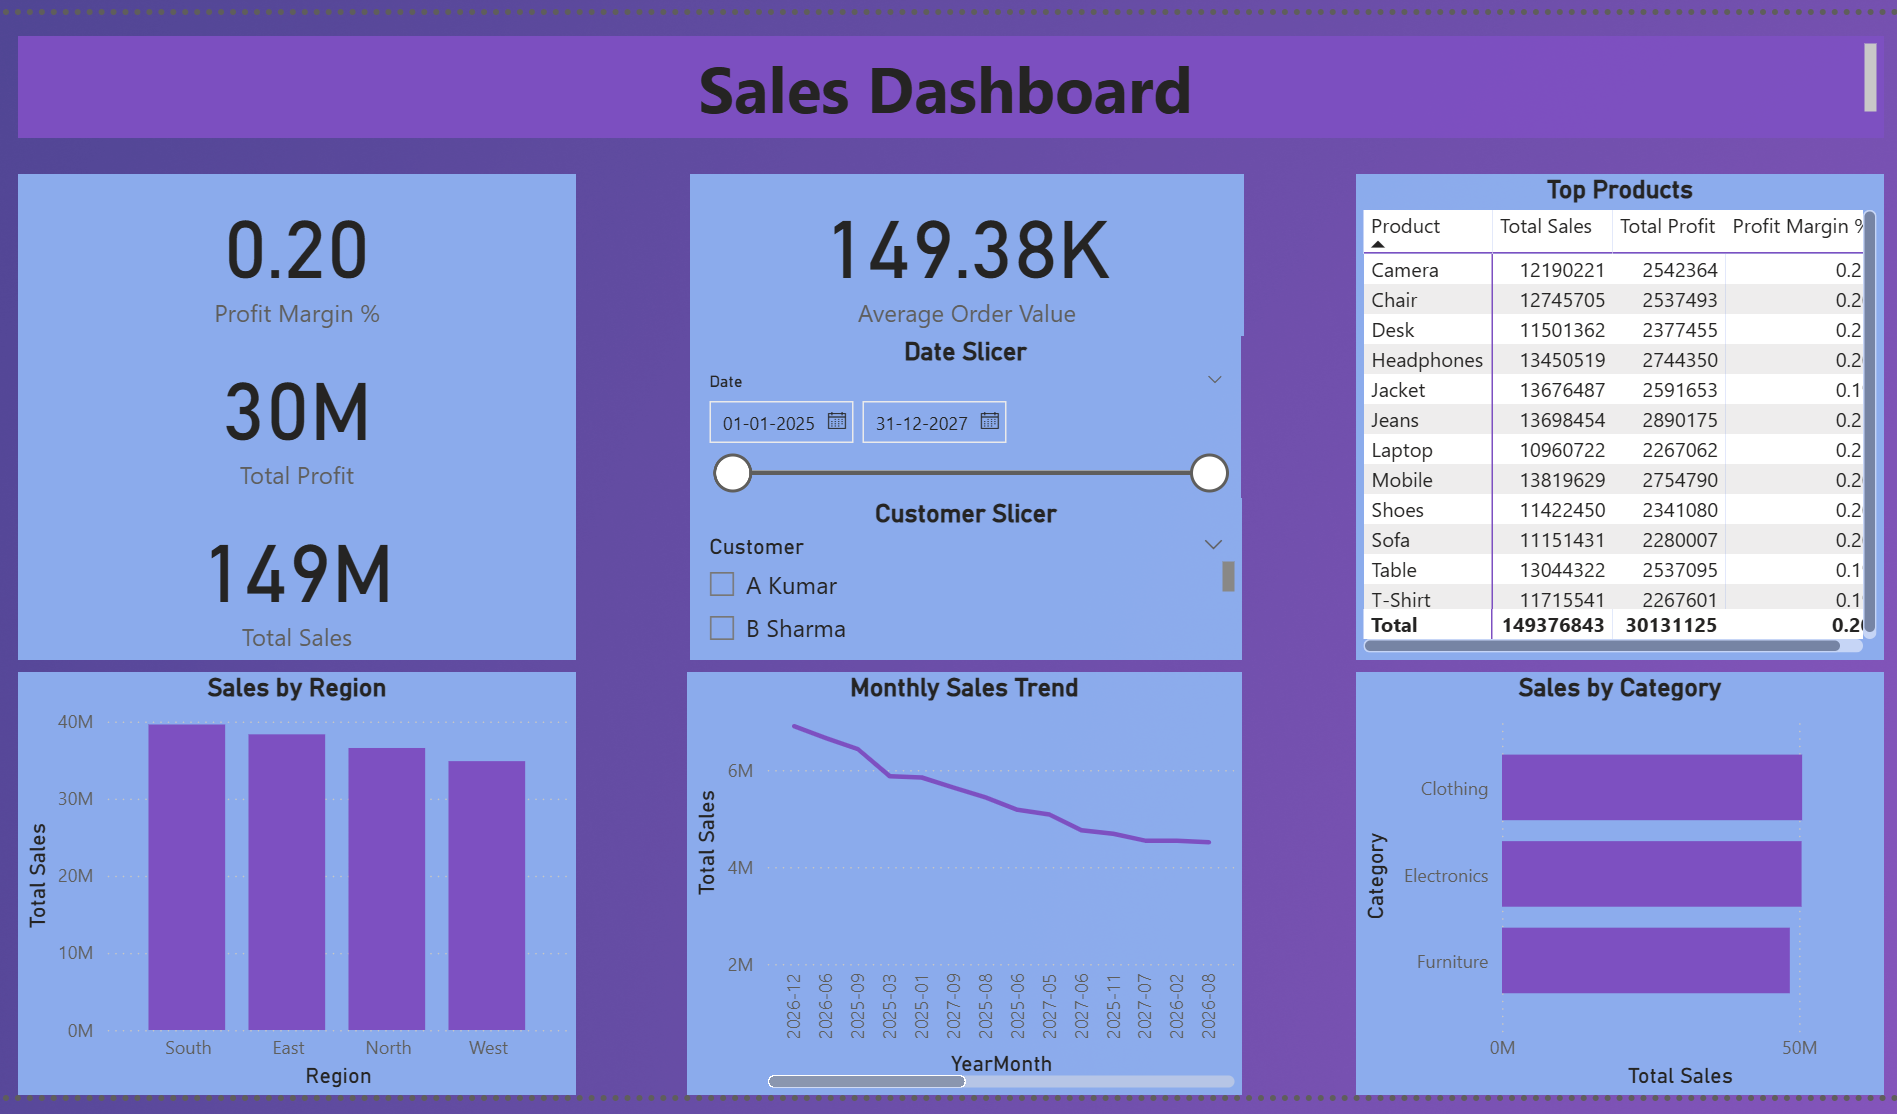

Layout of this report page (visuals, bound fields, positions):
{"tool":"powerbi","page":{"name":"Page 1","canvas":[1280,720],"ordinal":0},"visuals":[{"type":"card","fields":{"Values":["Sales.Profit Margin %"]},"box":[14,106,372,108],"z":0},{"type":"card","fields":{"Values":["Sales.Total Profit"]},"box":[14,214,372,108],"z":1000},{"type":"card","fields":{"Values":["Sales.Average Order Value"]},"box":[462,106,369.2,107.9],"z":2000},{"type":"card","fields":{"Values":["Sales.Total Sales"]},"box":[14,322,372,108],"z":3000},{"type":"clusteredColumnChart","title":"Sales by Region","fields":{"Category":["Sales.Region"],"Y":["Sales.Total Sales"]},"box":[14,438,372,282],"z":4000},{"type":"clusteredBarChart","title":"Sales by Category","fields":{"Category":["Sales.Category"],"Y":["Sales.Total Sales"]},"box":[906,438,352,282],"z":5000},{"type":"lineChart","title":"Monthly Sales Trend","fields":{"Category":["Date.YearMonth"],"Y":["Sales.Total Sales"]},"box":[460,438,370,282],"z":6000},{"type":"pivotTable","title":"Top Products","fields":{"Rows":["Sales.Product"],"Values":["Sales.Total Sales","Sales.Total Profit","Sales.Profit Margin %"]},"box":[906,106,352,324],"z":7000},{"type":"slicer","title":"Date Slicer","fields":{"Values":["Date.Date"]},"box":[462,215.9,369.2,107.9],"z":8000},{"type":"slicer","title":"Customer Slicer","fields":{"Values":["Sales.Customer"]},"box":[462,322,368,108],"z":9000},{"type":"textbox","box":[13.3,13.3,1244,68.2],"z":10000}]}

Visuals, with their boxes on the page's 1280x720 design canvas (x1, y1, x2, y2). These are canvas units, not pixel positions in the 1897x1114 screenshot, which may show the page scaled, cropped or inside an application window:
card - Sales.Profit Margin %: x1=14, y1=106, x2=386, y2=214
card - Sales.Total Profit: x1=14, y1=214, x2=386, y2=322
card - Sales.Average Order Value: x1=462, y1=106, x2=831, y2=214
card - Sales.Total Sales: x1=14, y1=322, x2=386, y2=430
"Sales by Region" clusteredColumnChart: x1=14, y1=438, x2=386, y2=720
"Sales by Category" clusteredBarChart: x1=906, y1=438, x2=1258, y2=720
"Monthly Sales Trend" lineChart: x1=460, y1=438, x2=830, y2=720
"Top Products" pivotTable: x1=906, y1=106, x2=1258, y2=430
"Date Slicer" slicer: x1=462, y1=216, x2=831, y2=324
"Customer Slicer" slicer: x1=462, y1=322, x2=830, y2=430
textbox: x1=13, y1=13, x2=1257, y2=82
